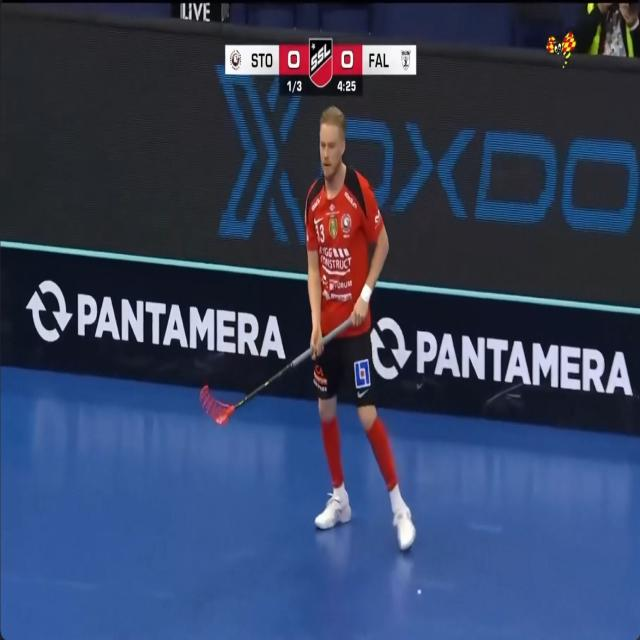player: (306, 106, 415, 550)
